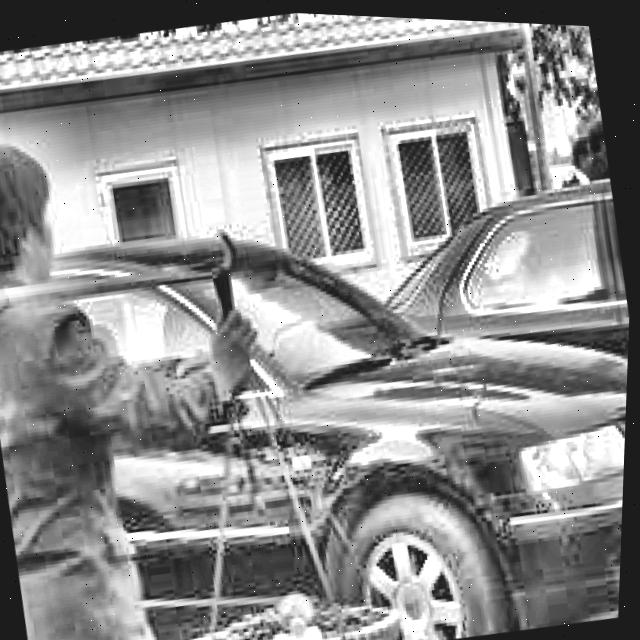light_vehicle: (0, 150, 636, 640), (356, 163, 636, 610)
